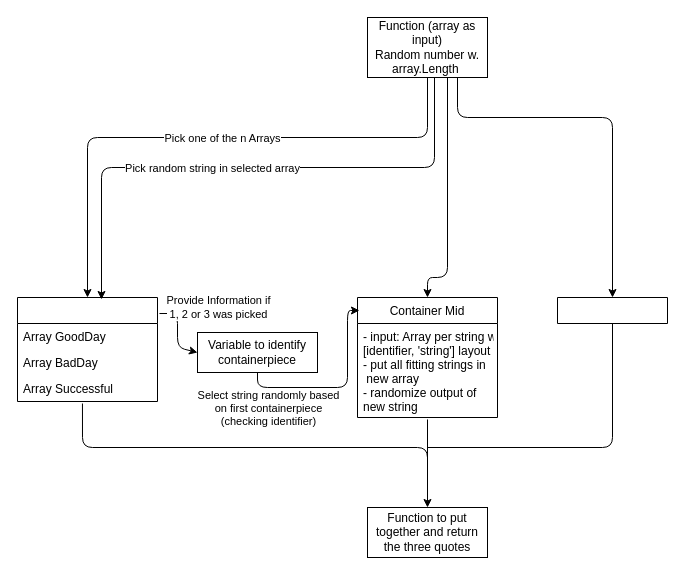
The diagram is 685 pixels wide and 575 high, and some of its shapes have lost their labels. Here are the shapes that lost their labels. From the top down, the box of each, then its label:
(556, 296, 668, 324): Container End
(16, 296, 158, 402): Container Beginning
